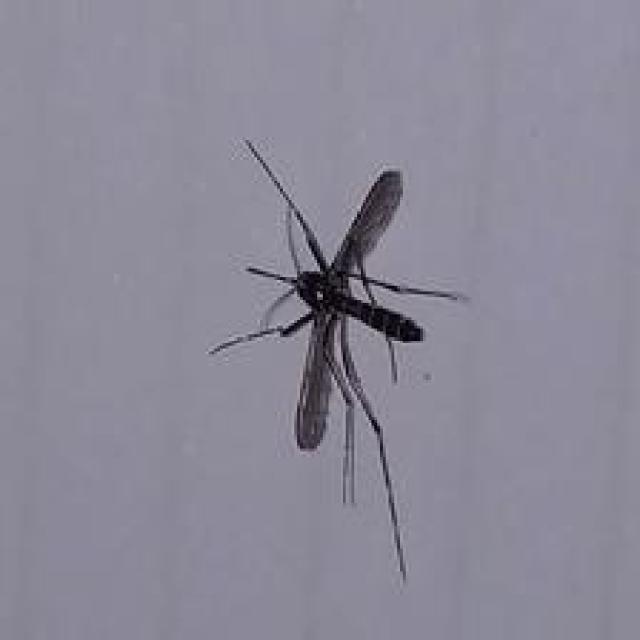Aedes albopictus: (207, 137, 467, 583)
